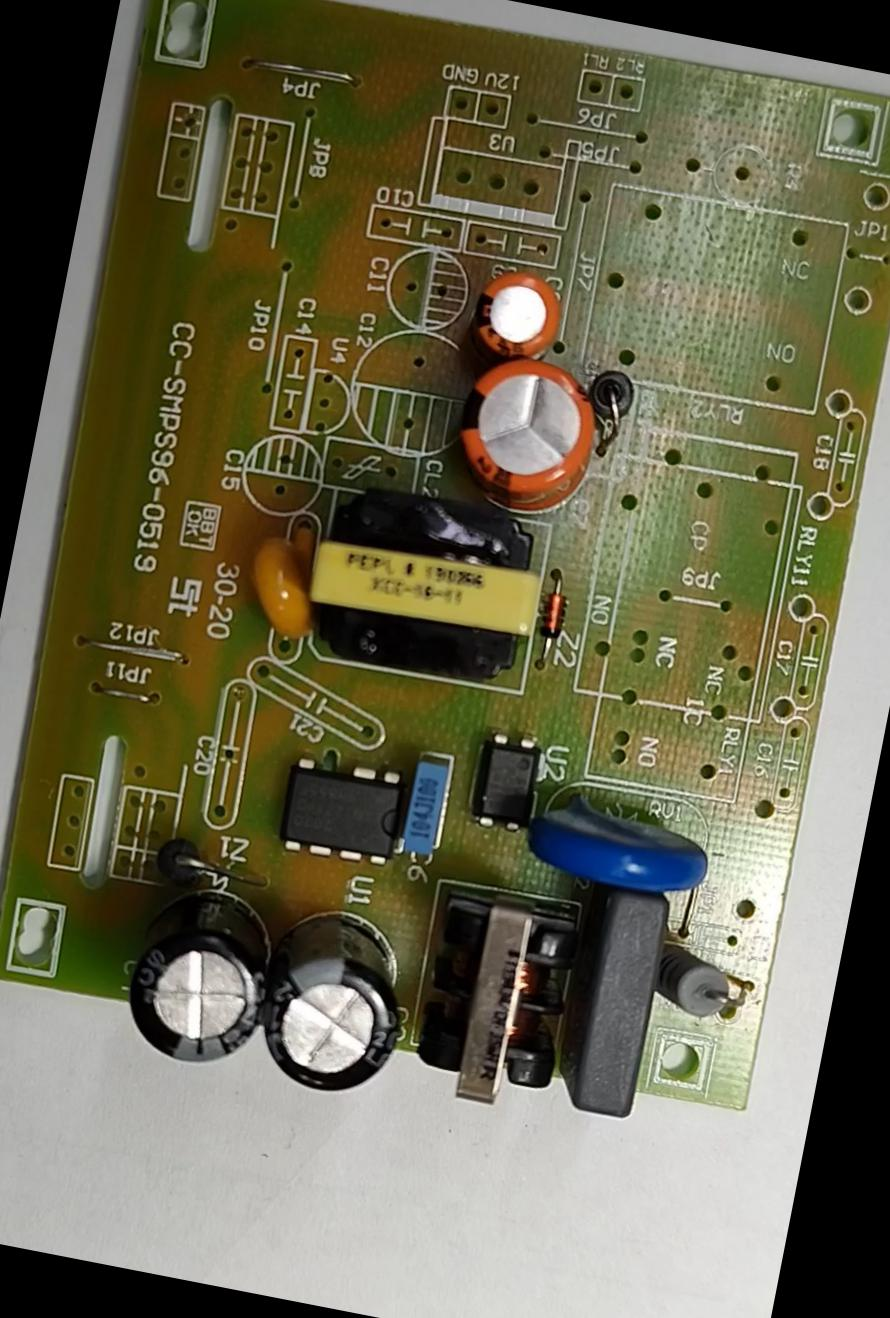Cap1: (431, 342, 622, 528)
Cap2: (453, 246, 585, 378)
Cap3: (242, 895, 422, 1104)
Cap4: (103, 861, 294, 1077)
MOSFET: (260, 736, 421, 886)
Mov: (504, 774, 736, 909)
Resistor: (648, 948, 748, 1039)
Transformer: (288, 464, 566, 700), (397, 884, 601, 1126)
